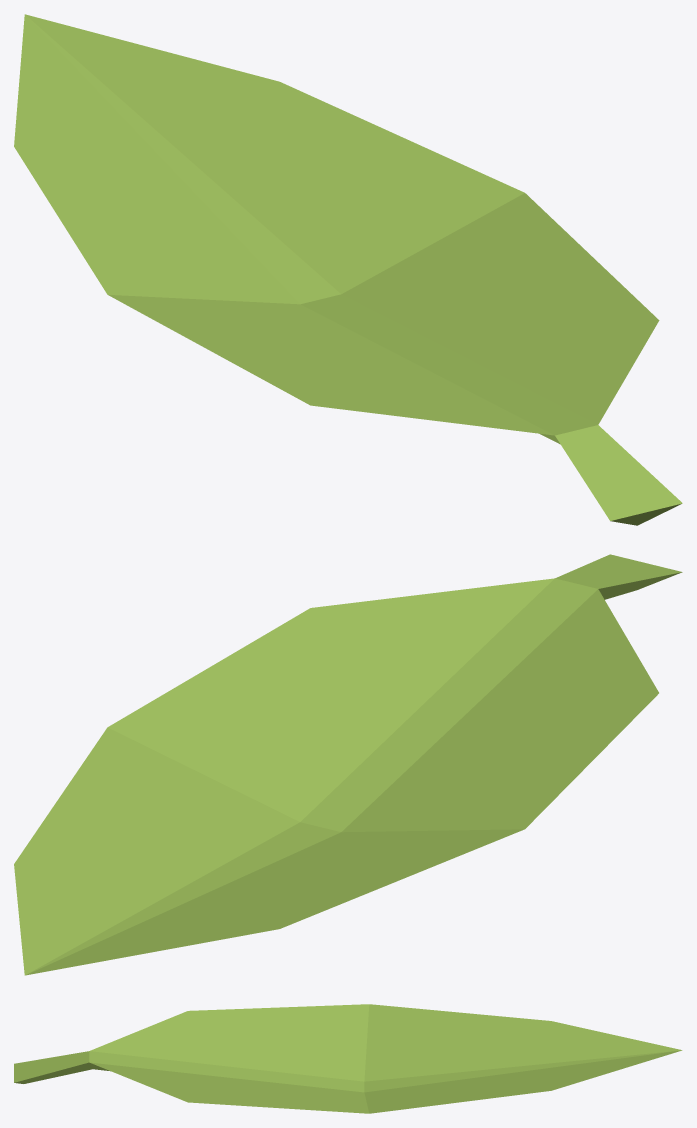
The model's file is leaf06.fbx.
3 renders of one model, top to bottom at view 1: azimuth 30°, elevation 25°; view 2: azimuth 150°, elevation 25°; view 3: azimuth 270°, elevation 25°, orthographic. The views are drawn at different scales.
Parts seen in each view (by area): view 1: leaf06; view 2: leaf06; view 3: leaf06.
Boxes of the visible parts, box(x1,y1,x2,y2) form: leaf06: box(14, 14, 682, 525); leaf06: box(14, 554, 682, 975); leaf06: box(14, 1004, 682, 1113).
Size of the model in its own units: 0.2679 by 0.0563 by 0.6908.
